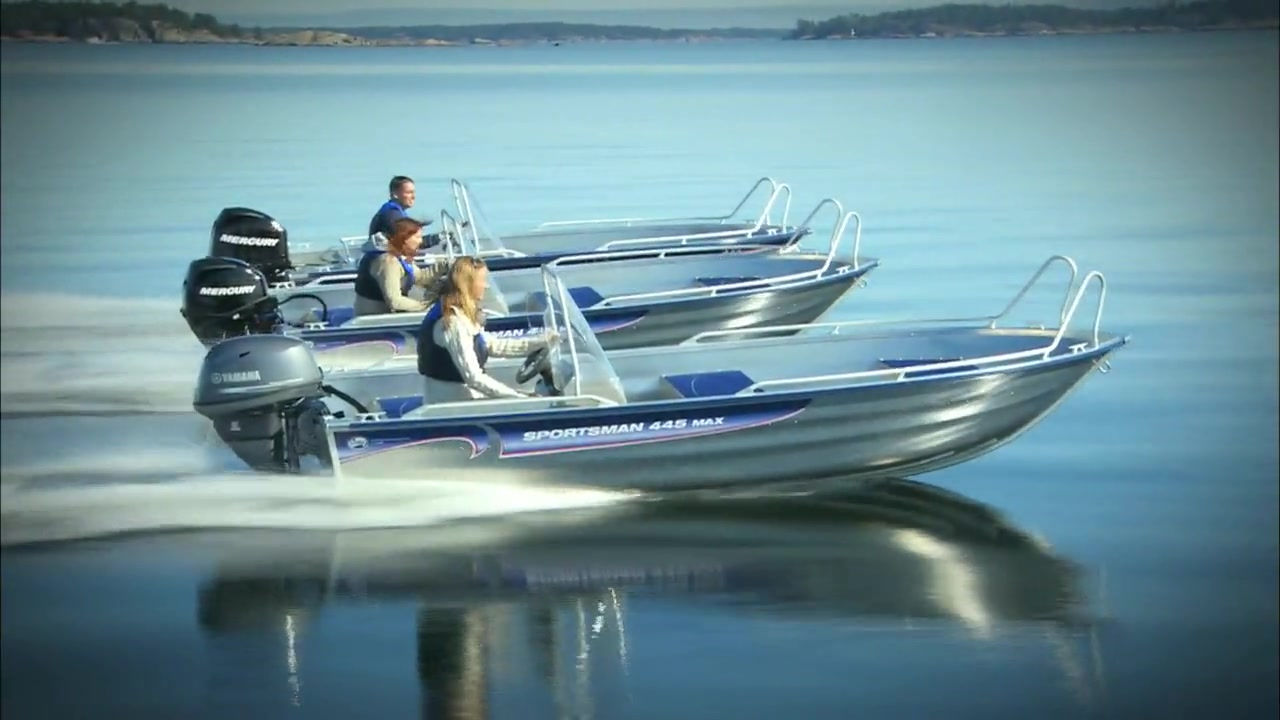boat: (196, 255, 1146, 515)
